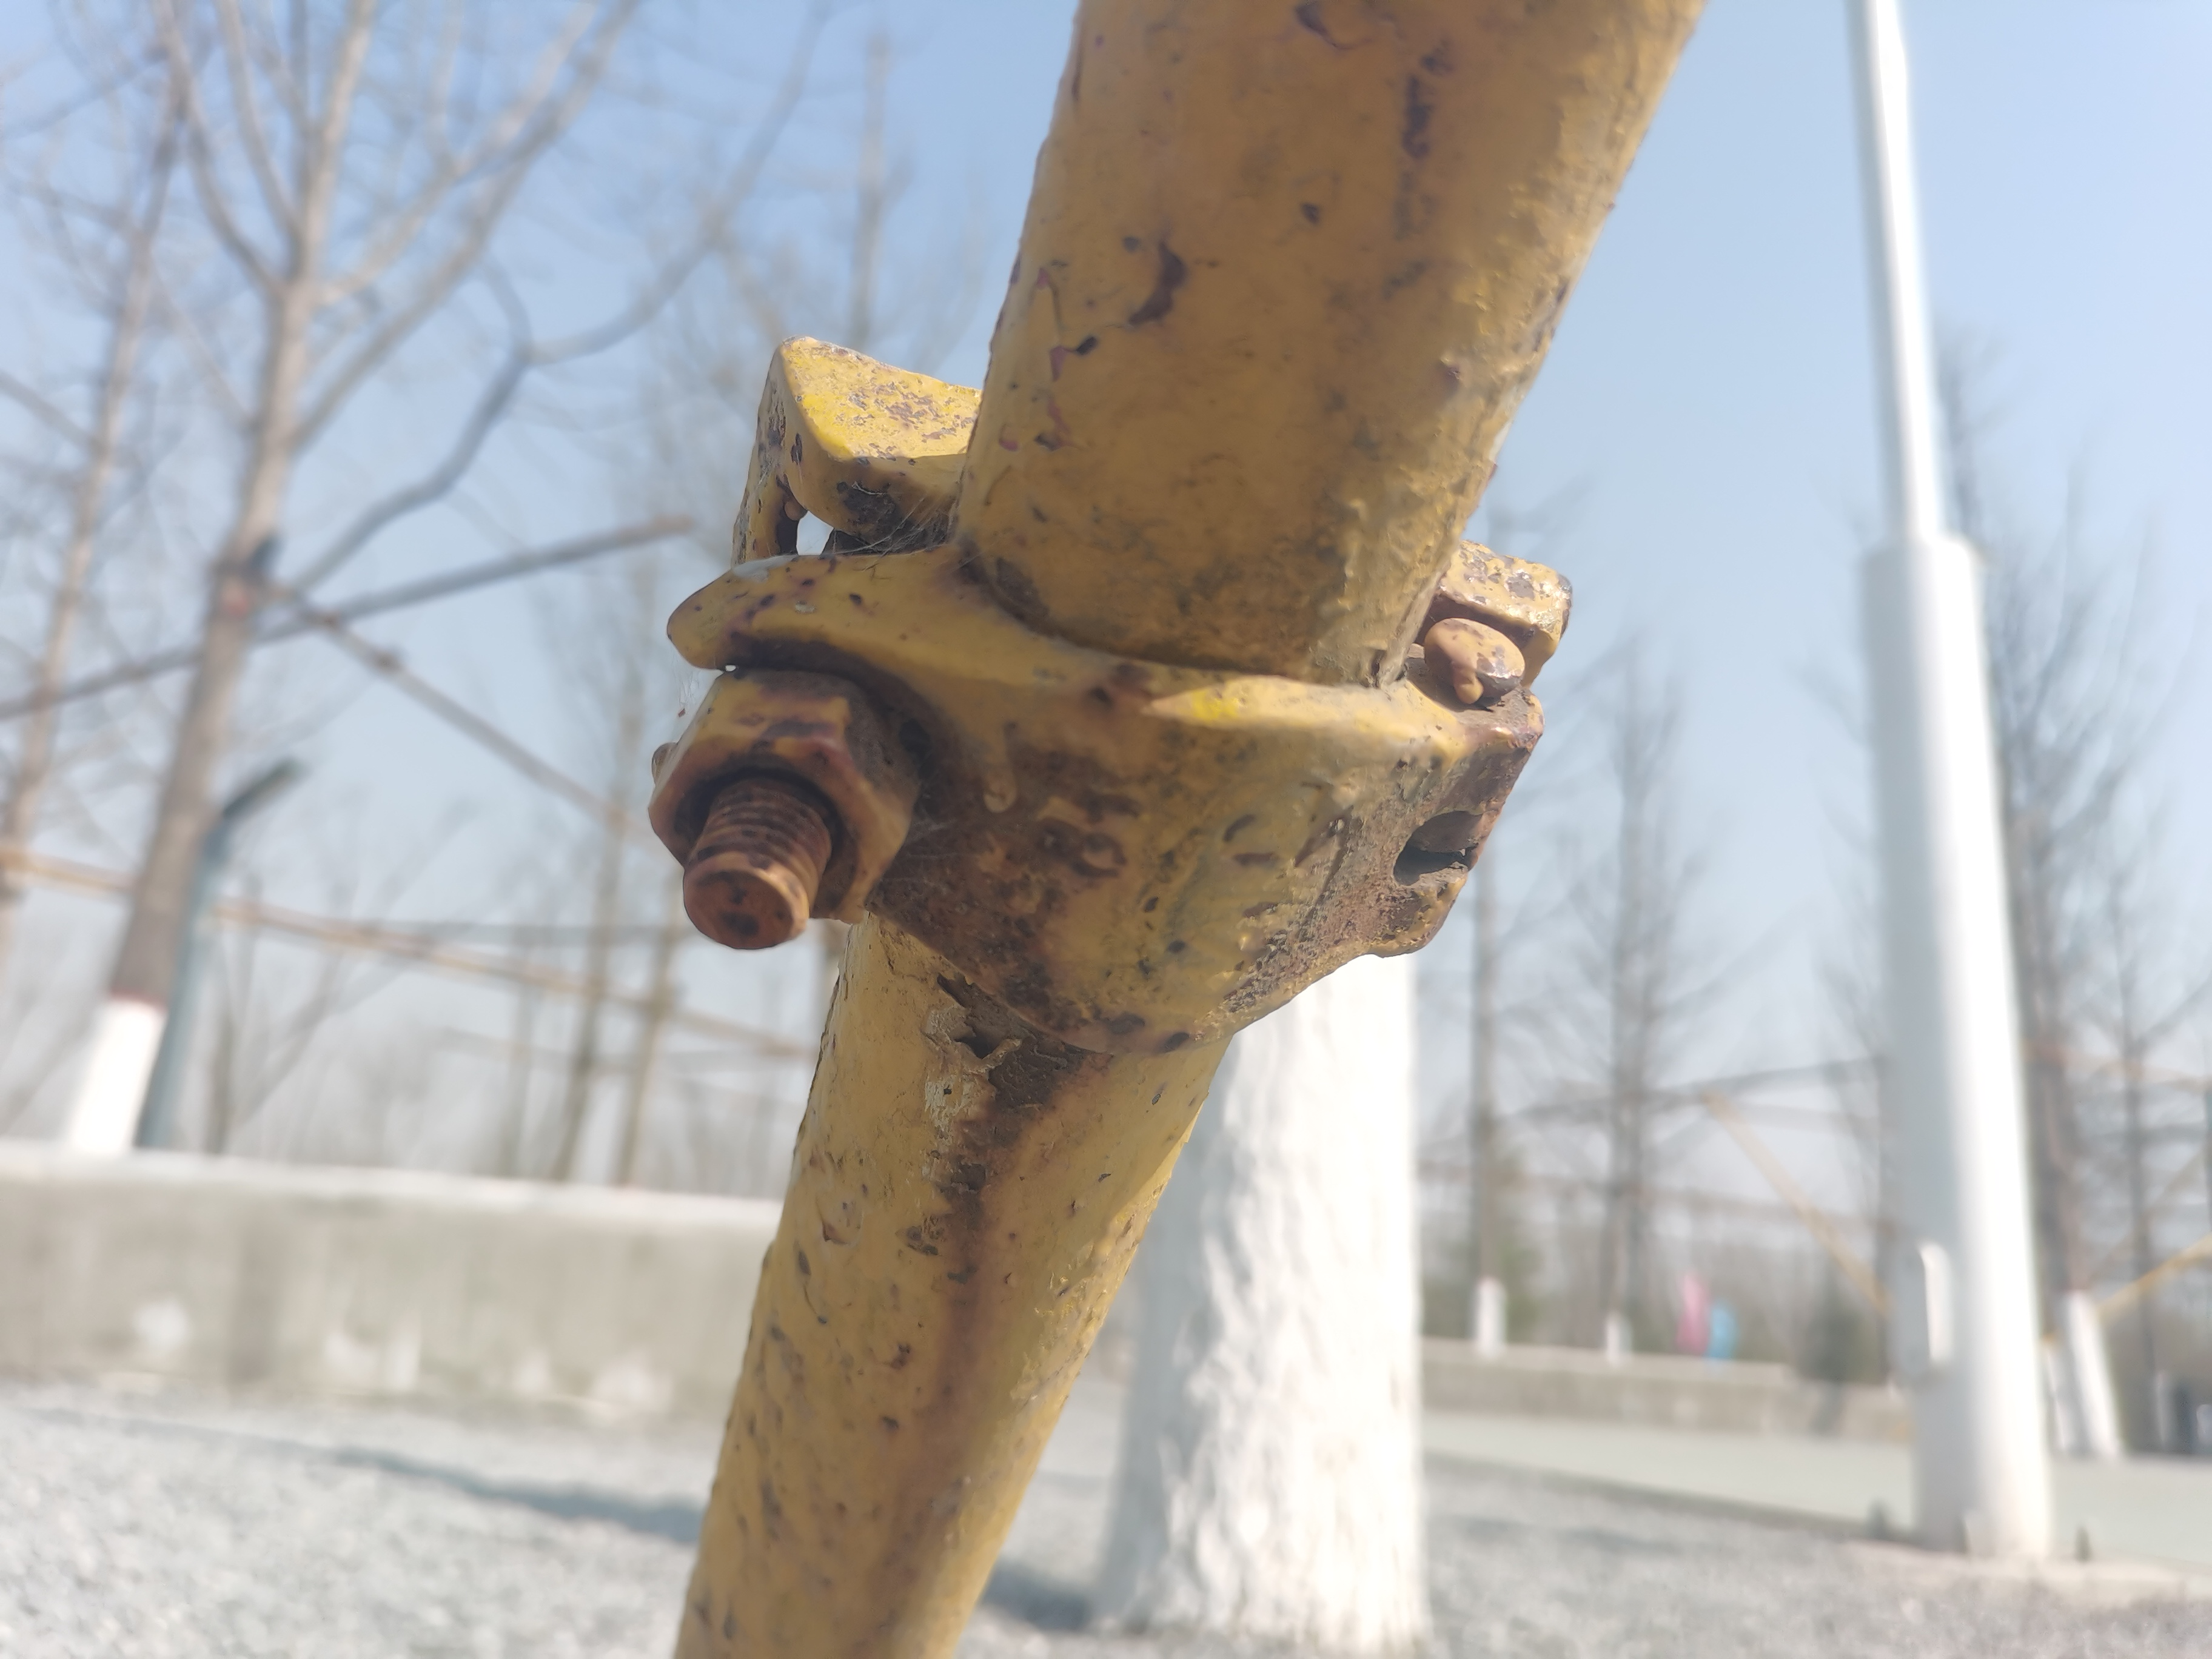bolt_b: (637, 650, 930, 939)
